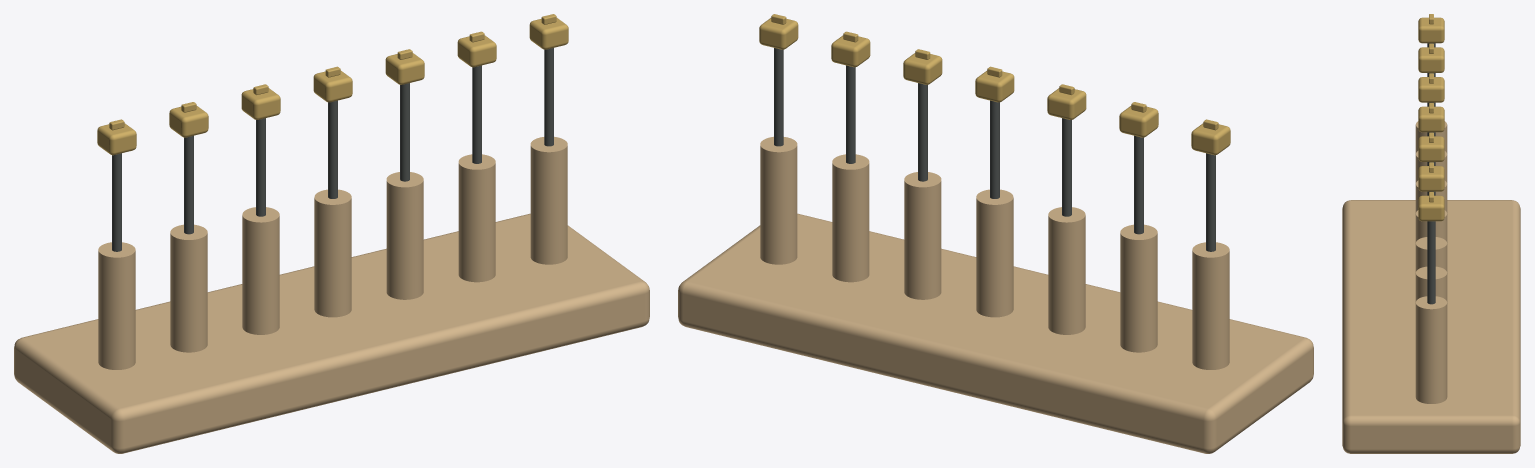
Rendered from bookbinding-and-paper-mill-lettering-tool-rack-b2c9f16d__30576.glb.
The picture shows the model from 3 angles, left to right: view 1: azimuth 30°, elevation 25°; view 2: azimuth 150°, elevation 25°; view 3: azimuth 270°, elevation 25°; orthographic projection. The views are drawn at different scales.
Parts seen in each view (by area): view 1: lettering-tool-rack; view 2: lettering-tool-rack; view 3: lettering-tool-rack.
Part boxes in pixels (x1,y1,x2,y2): lettering-tool-rack: (14,14,649,453); lettering-tool-rack: (678,14,1313,453); lettering-tool-rack: (1342,14,1520,453).
Size of the model in its own units: 0.5 by 0.254 by 0.17.
